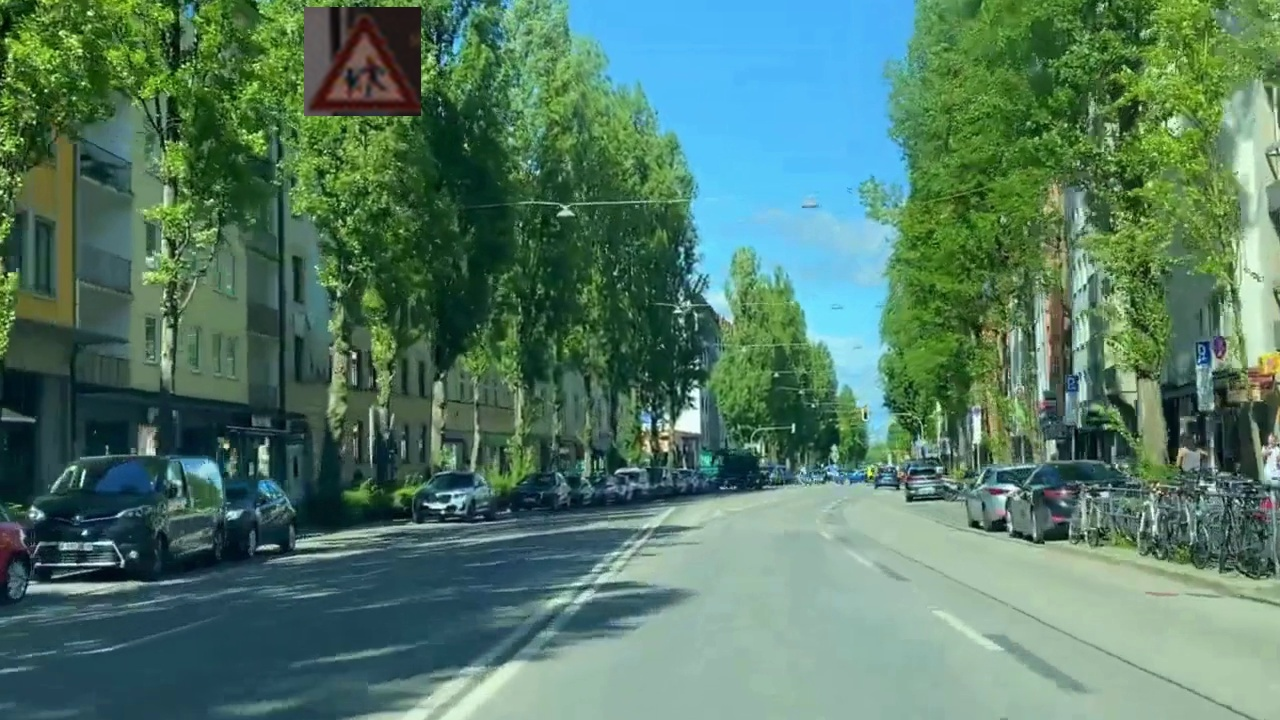Children: (304, 7, 421, 116)
